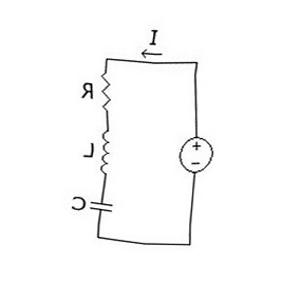Battery: (168, 123, 225, 188)
